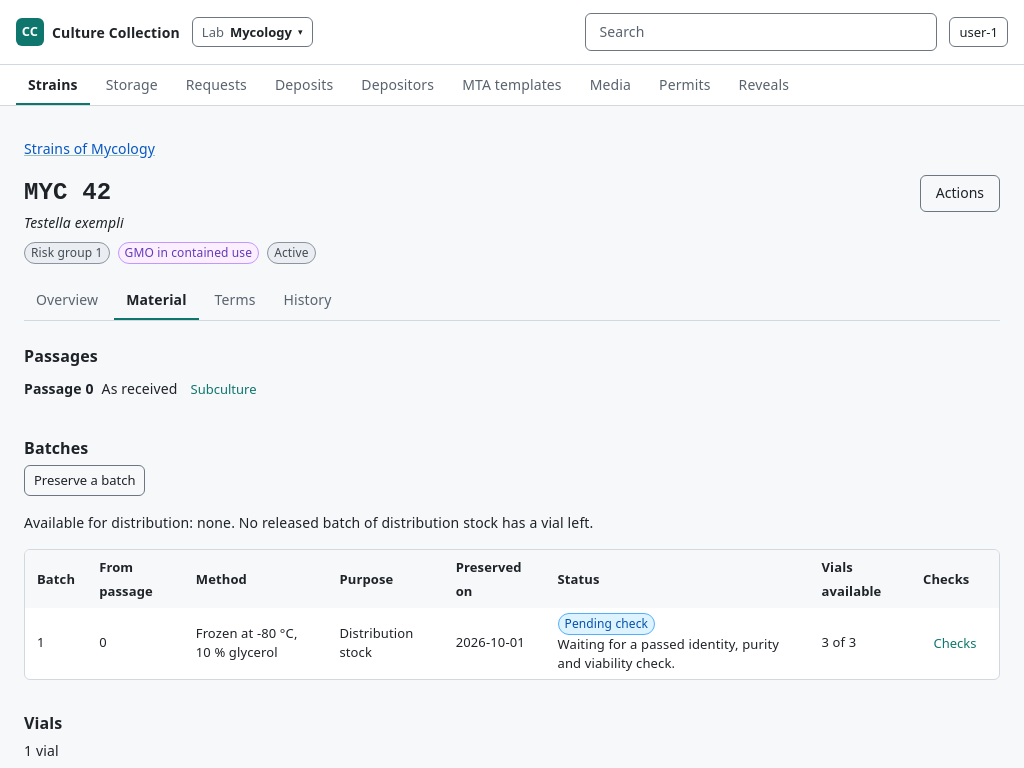
Test: a write refreshes the data other features show › changing the risk group on the strain page refetches the strain's material and marks the lab's box grids stale
Click the button with aria-label "Actions for MYC 42". click: (960, 193)
box: [920,175,1000,212]
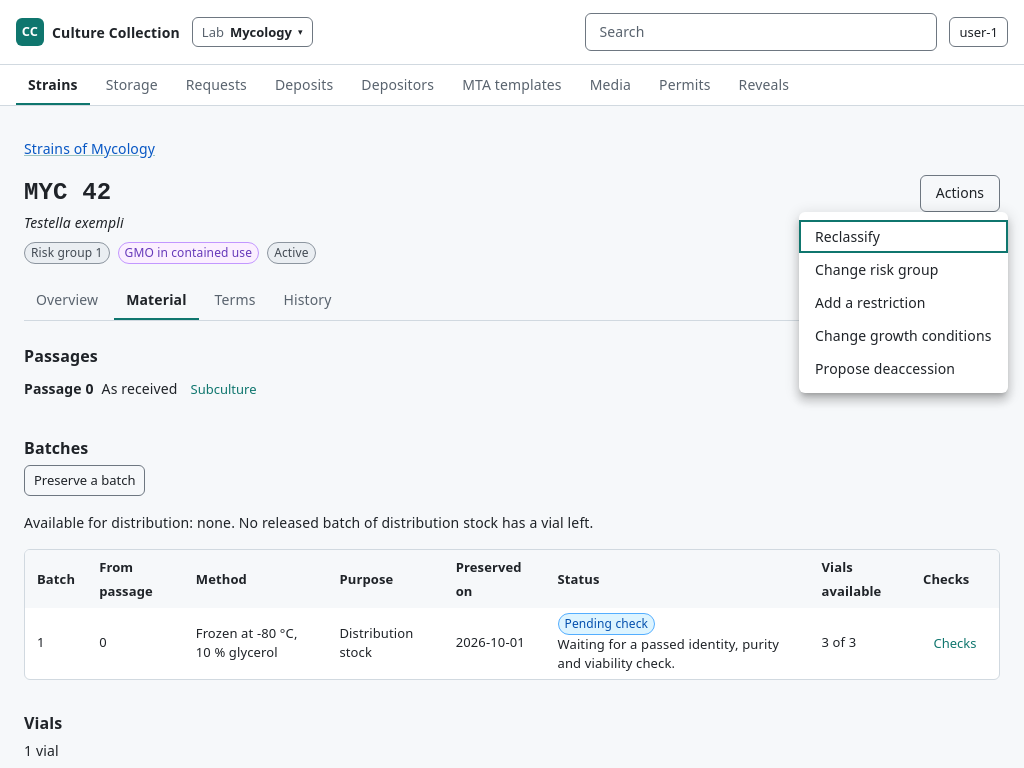
Click the menu item "Change risk group". click: (877, 270)
box: [815,260,938,279]
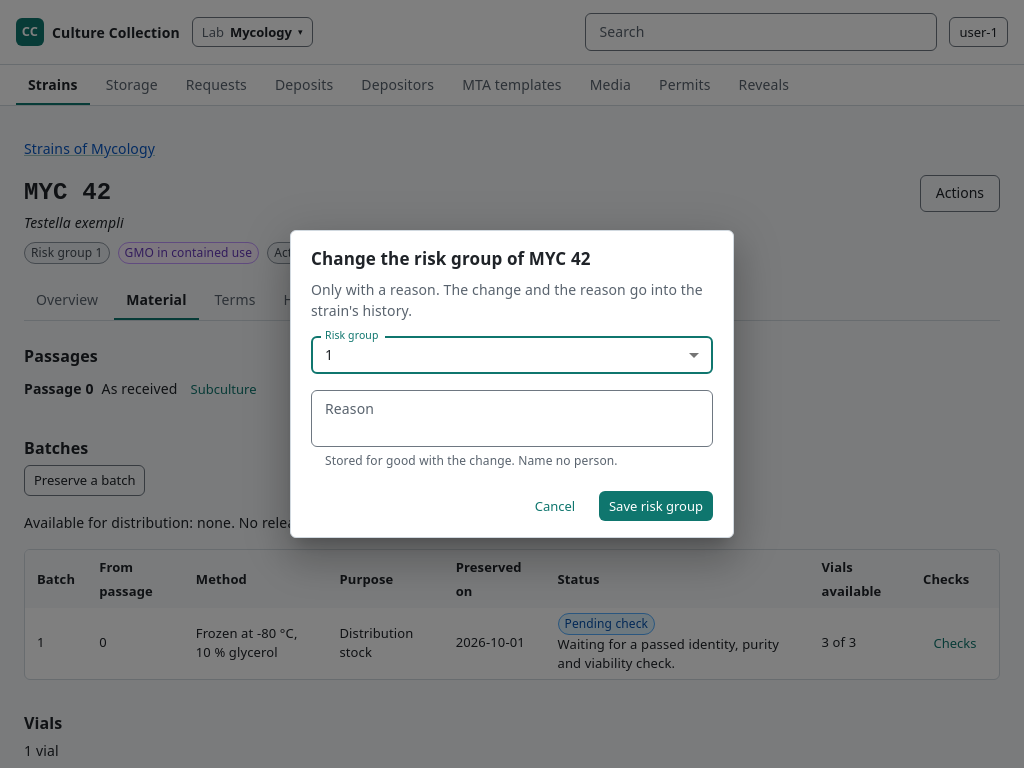
Select "1" in the dropdown labelled "Risk group". click: (512, 355)
box: [311,336,713,374]
Type "reassessed" into the text box labelled "Reason". click: (512, 418)
box: [325,398,699,438]
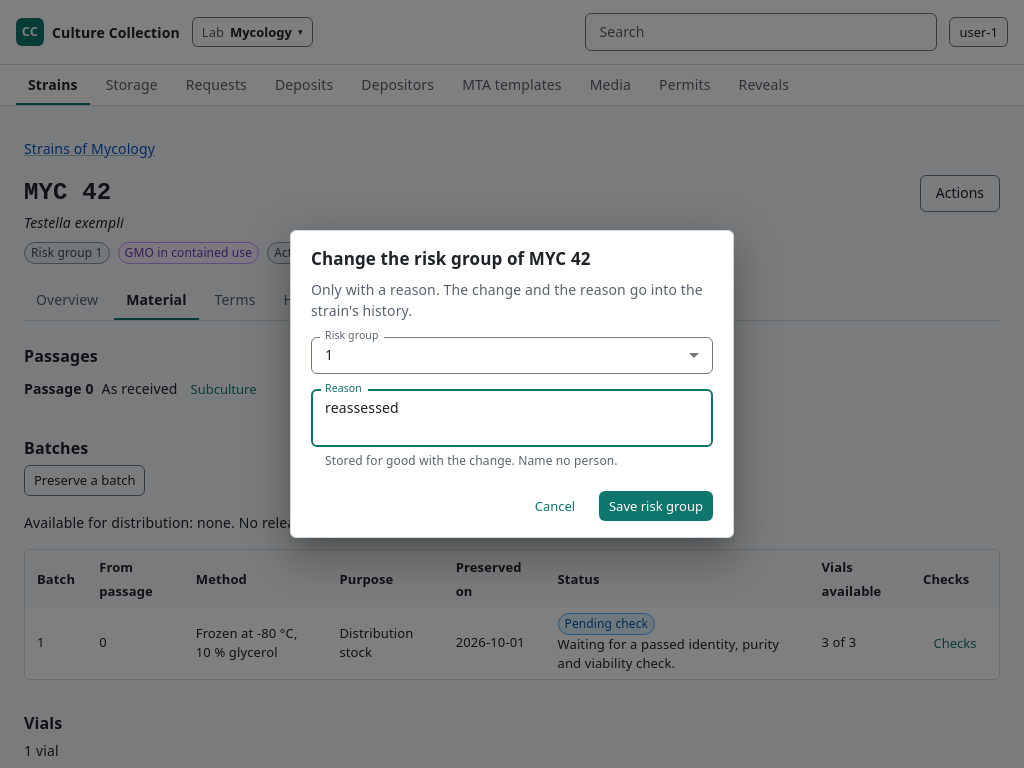
Click the button "Save risk group". click: (656, 506)
box: [599,490,713,521]
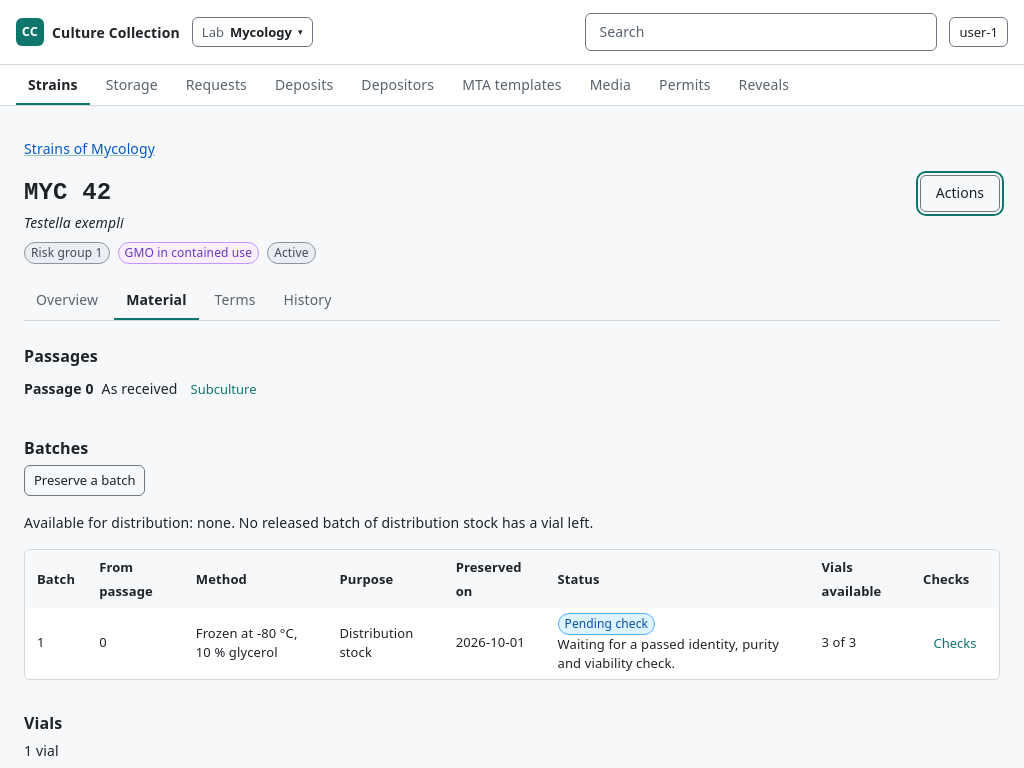
Now the heading "Change the risk group of MYC 42" is gone
